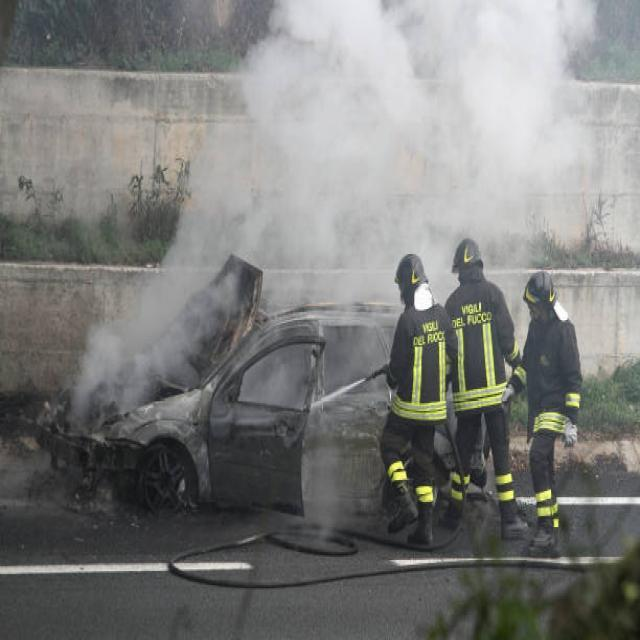Smoke: (85, 0, 606, 404)
